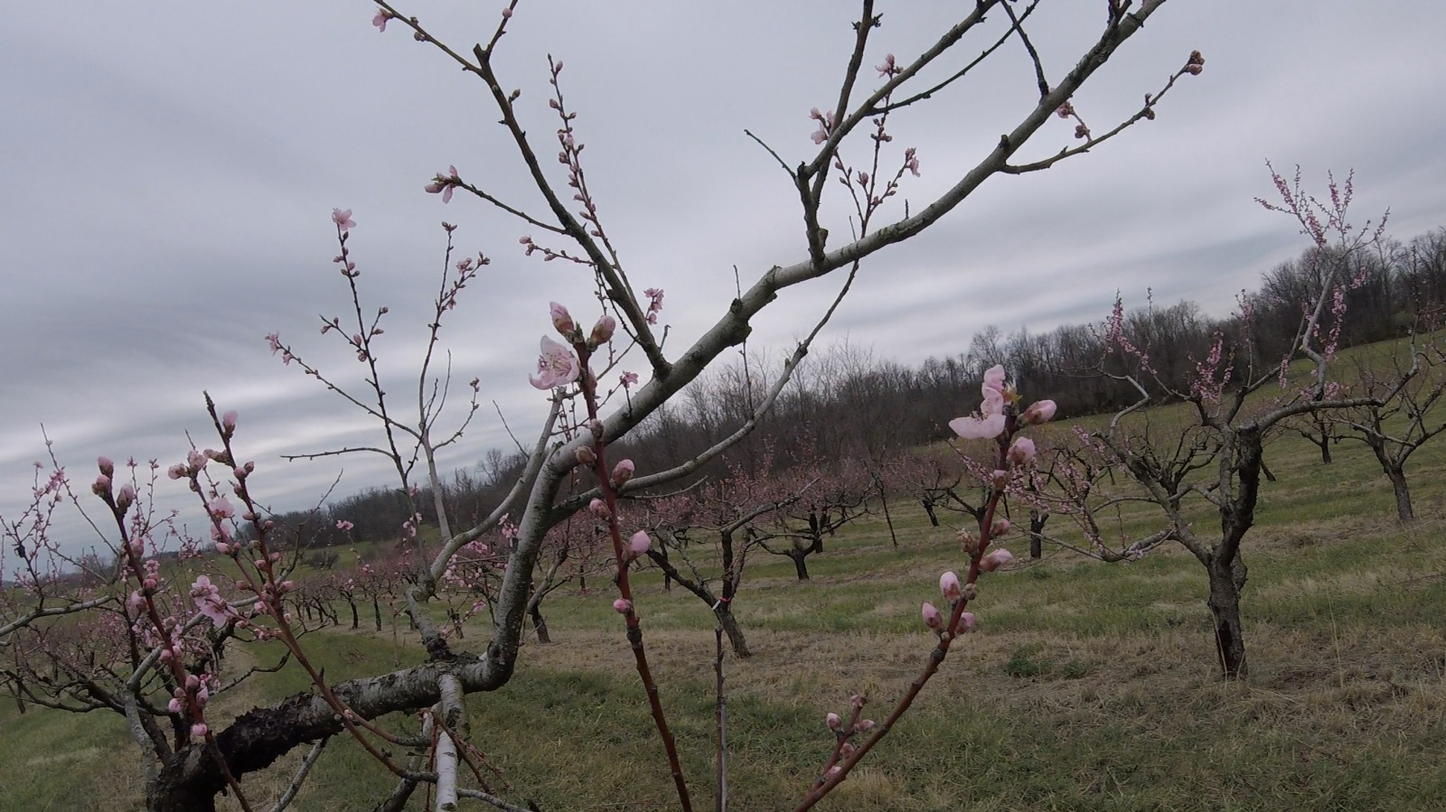flower: (949, 365, 1011, 436), (530, 335, 581, 394), (192, 575, 236, 632), (117, 468, 143, 512), (810, 97, 830, 145), (620, 360, 651, 390), (1009, 437, 1038, 463), (206, 493, 236, 518), (594, 309, 616, 338), (1028, 400, 1057, 422), (550, 303, 574, 328), (45, 467, 65, 495), (333, 209, 357, 231), (643, 288, 664, 313), (167, 692, 186, 718), (187, 449, 209, 471), (629, 531, 652, 552), (876, 54, 895, 79), (372, 8, 389, 33), (265, 333, 282, 357), (940, 572, 960, 592), (168, 463, 190, 481), (203, 540, 231, 554), (986, 549, 1013, 563), (223, 412, 239, 433), (191, 723, 207, 744), (283, 354, 305, 367), (923, 603, 938, 621), (425, 182, 445, 194), (99, 457, 115, 472), (443, 183, 454, 204), (962, 612, 973, 627), (450, 165, 458, 177), (454, 186, 463, 189), (191, 442, 195, 448)
